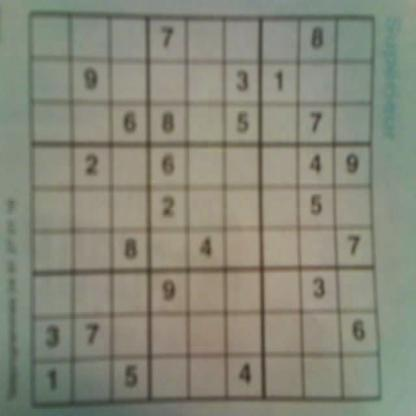sudoku: (26, 7, 385, 412)
